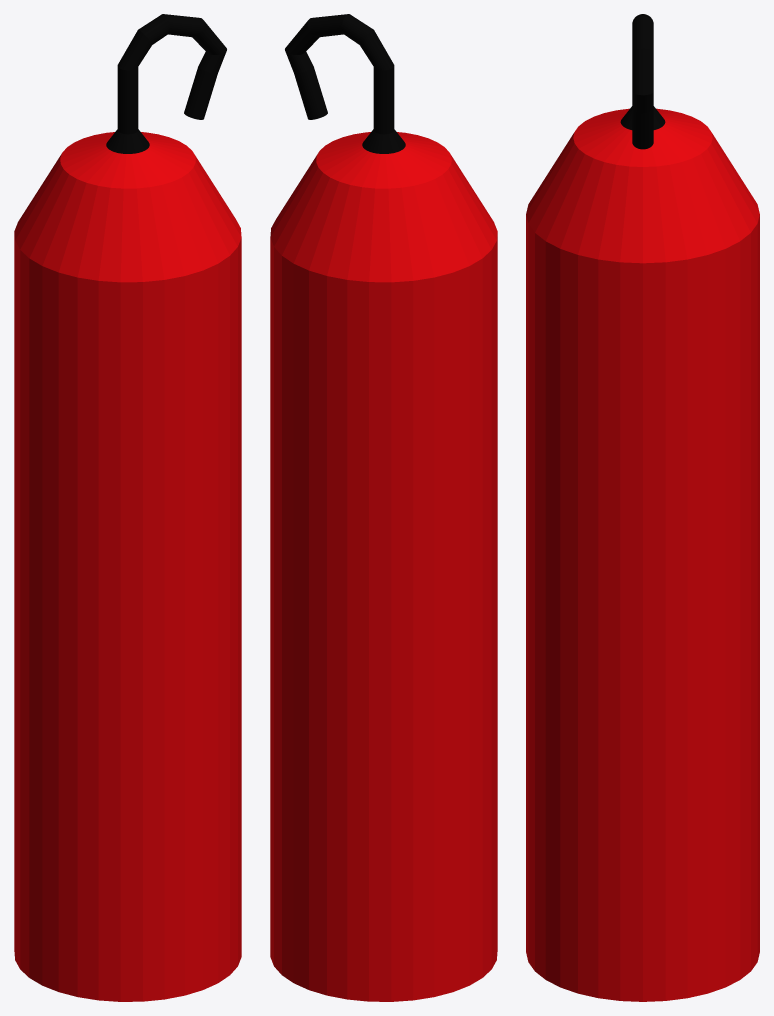
The model's file is yakıt tüpü.fbx.
The picture shows the model from 3 angles, left to right: view 1: azimuth 30°, elevation 25°; view 2: azimuth 150°, elevation 25°; view 3: azimuth 270°, elevation 25°; orthographic projection. The views are drawn at different scales.
Parts seen in each view (by area): view 1: Cylinder; view 2: Cylinder; view 3: Cylinder.
Boxes of the visible parts, <box> form: Cylinder: <box>14,14,241,1001</box>; Cylinder: <box>270,14,497,1001</box>; Cylinder: <box>526,14,759,1001</box>.
Size of the model in its own units: 133 by 601 by 133.
